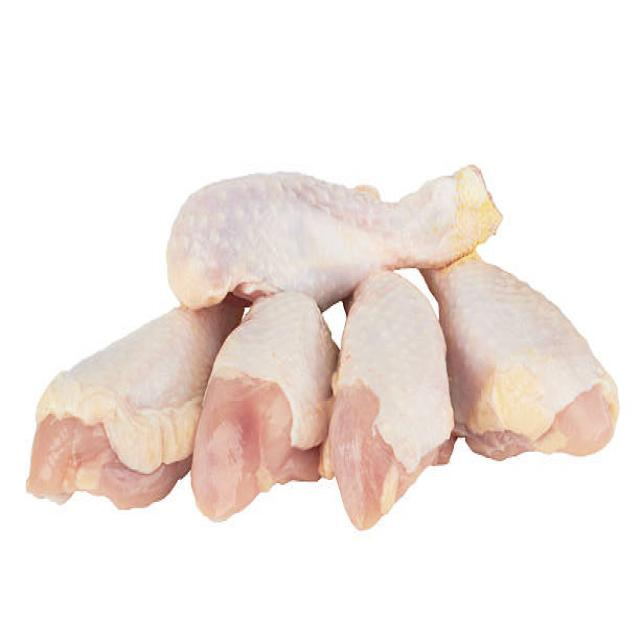Chicken: (161, 161, 492, 291), (23, 306, 200, 505), (452, 264, 620, 458), (328, 273, 449, 535), (188, 296, 322, 515)
